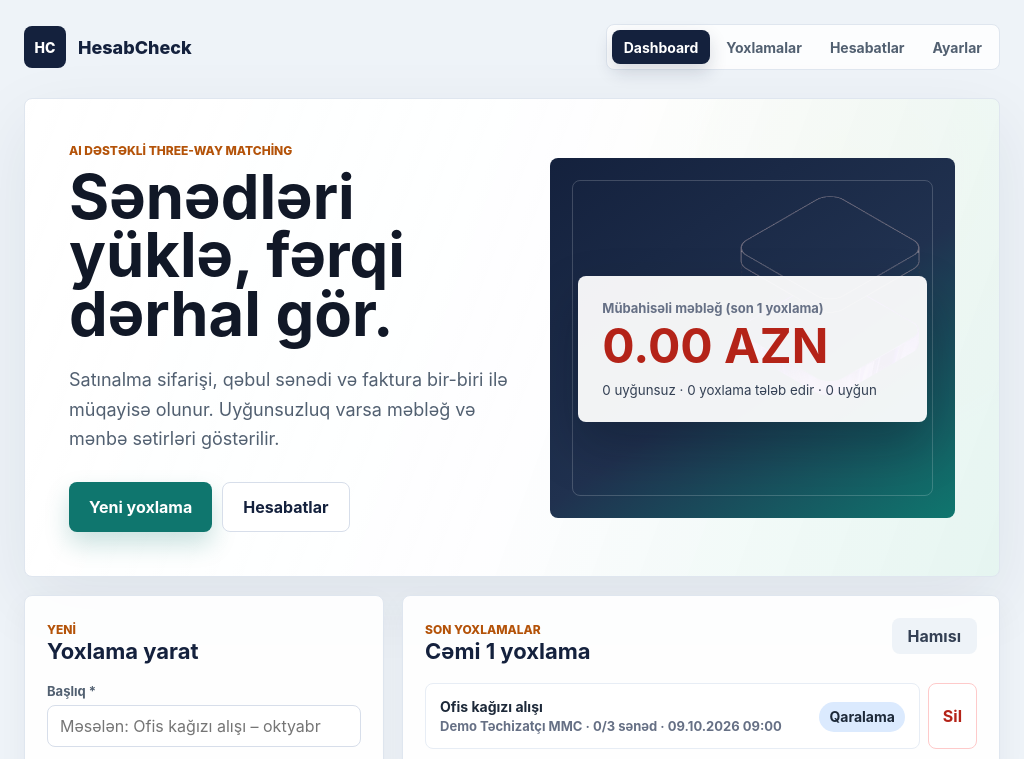
Test case: Yoxlamalar › təsdiqdən sonra silir və siyahını yeniləyir
What coordinates should you click on to do the following:
click the button "Yoxlamalar"
I would click on:
 (764, 47)
Its box is [714,30,814,64].
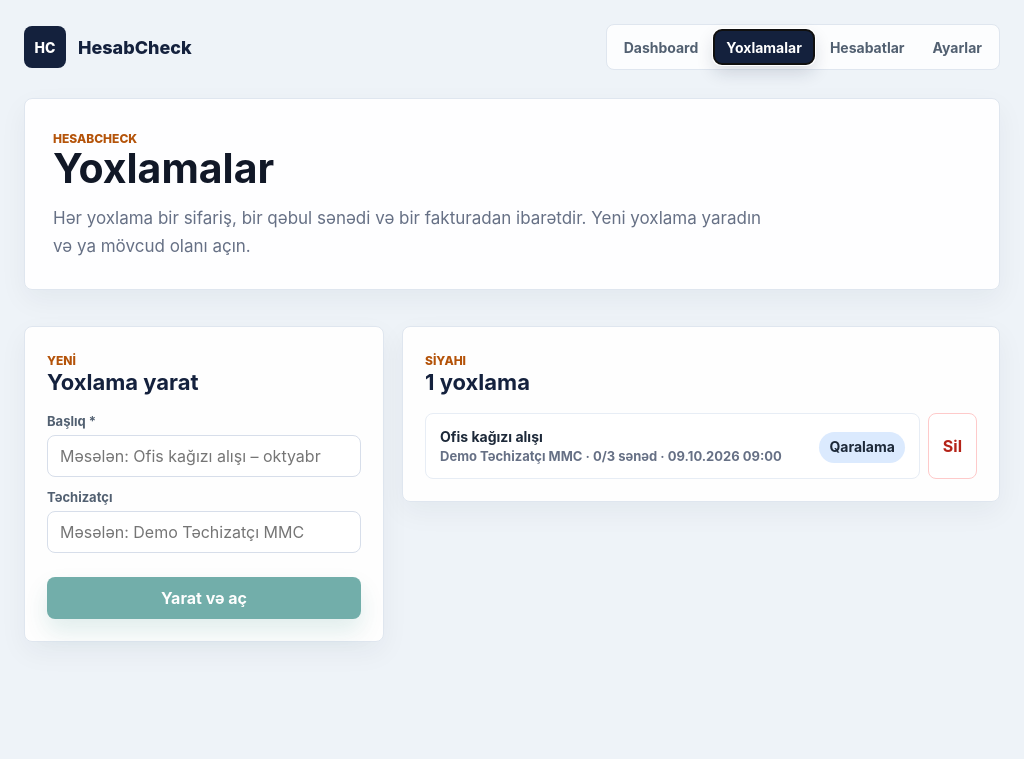
What coordinates should you click on to do the following:
click the button with aria-label "Ofis kağızı alışı yoxlamasını sil"
I would click on:
 (952, 446)
Its box is [928,413,977,479].
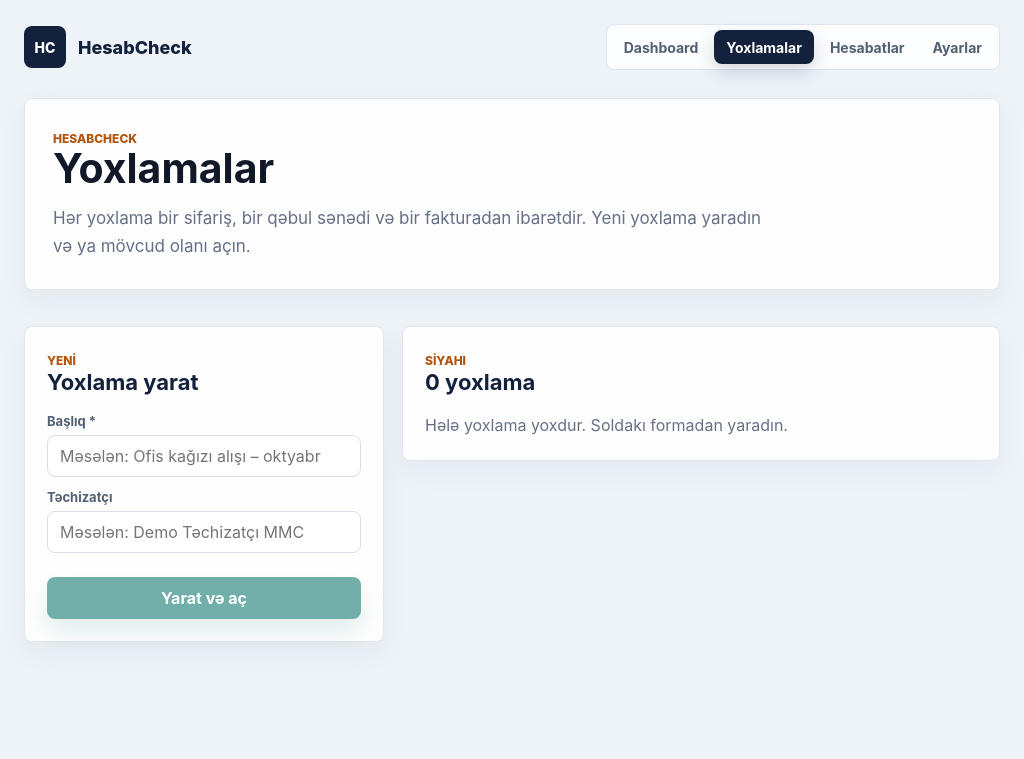
Expected: the text "Hələ yoxlama yoxdur. Soldakı formadan yaradın." is shown, [425,415,788,435]
